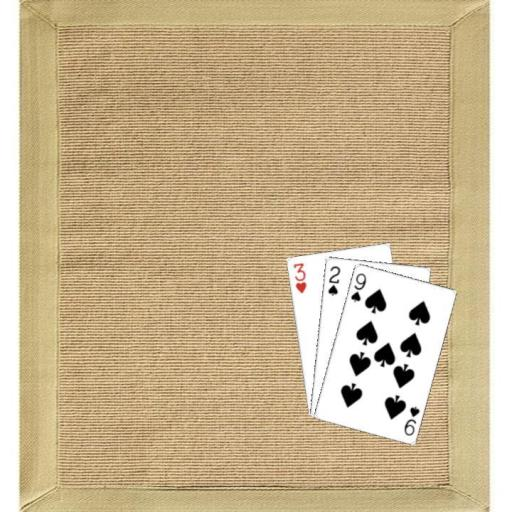2S: (325, 263, 341, 298)
3H: (290, 260, 307, 295)
9S: (348, 270, 368, 304), (401, 403, 421, 437)
